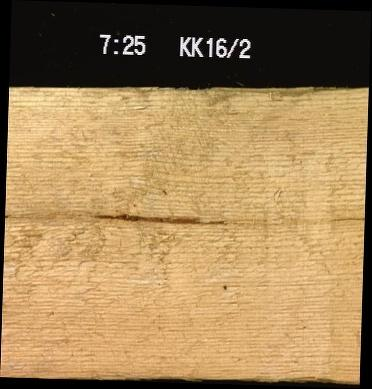split: (320, 201, 364, 226)
